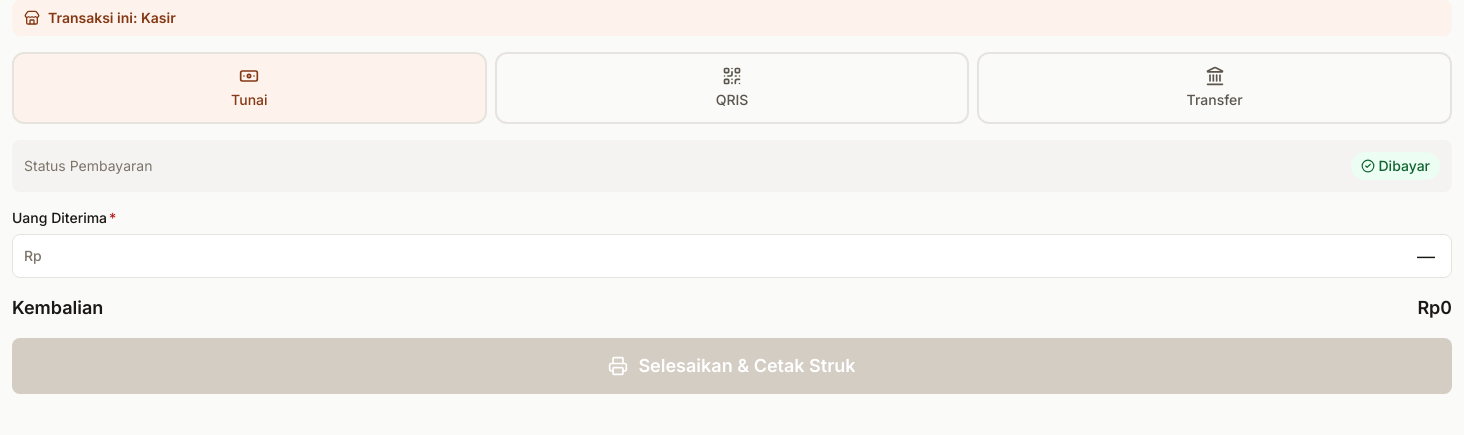
Test: PaymentPanel — payment status rendering › shows bank transfer as pending, with an explicit not-yet-verified note — never implying it is settled
Click the button "Transfer" at (1215, 88), box [977,52,1452,124]
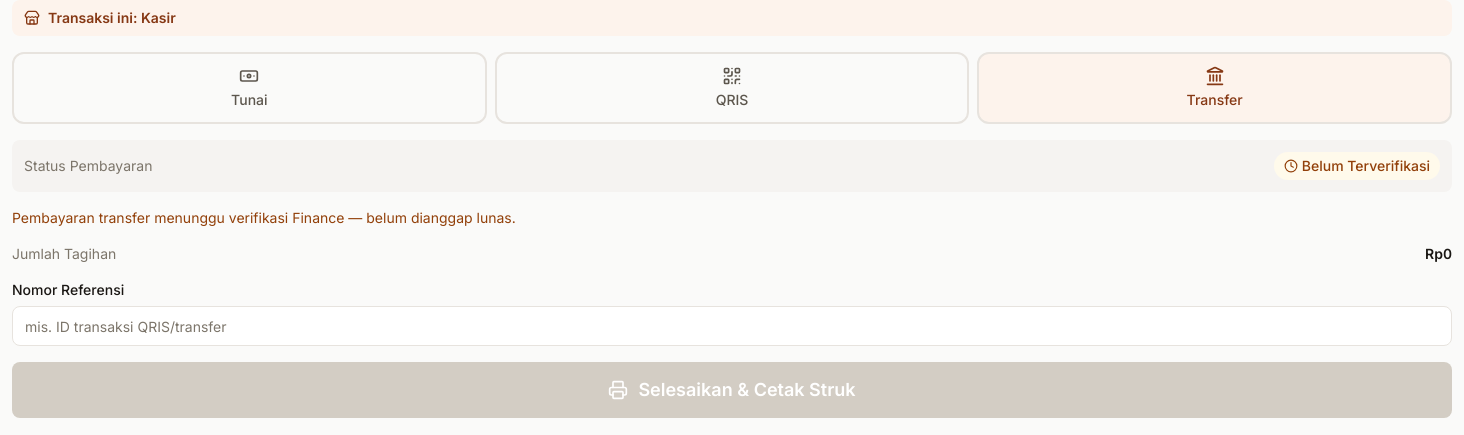
Now the text "Belum Terverifikasi" is shown, box [1274,152,1440,180]
Now the text "menunggu verifikasi Finance" is shown, box [12,209,516,226]
Now the text "Dibayar" is gone
